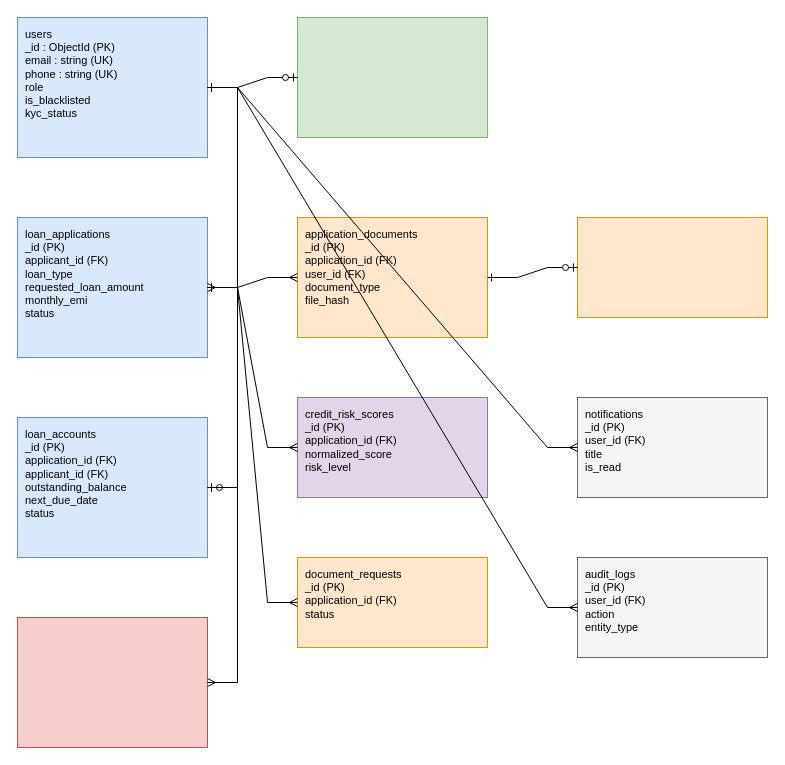
This 785x765 diagram has some shape labels left out. The shapes that lost their labels are listed below. From the top down, each one's centre as x and y in pixels, then its label:
At (x=392, y=77): "kyc_records _id (PK) user_id (FK) status pan_number citizenship_number".
At (x=672, y=267): "ocr_results _id (PK) document_id (FK) detected_document_type type_match".
At (x=112, y=682): "payments _id (PK) loan_id (FK) applicant_id (FK) amount provider status".
